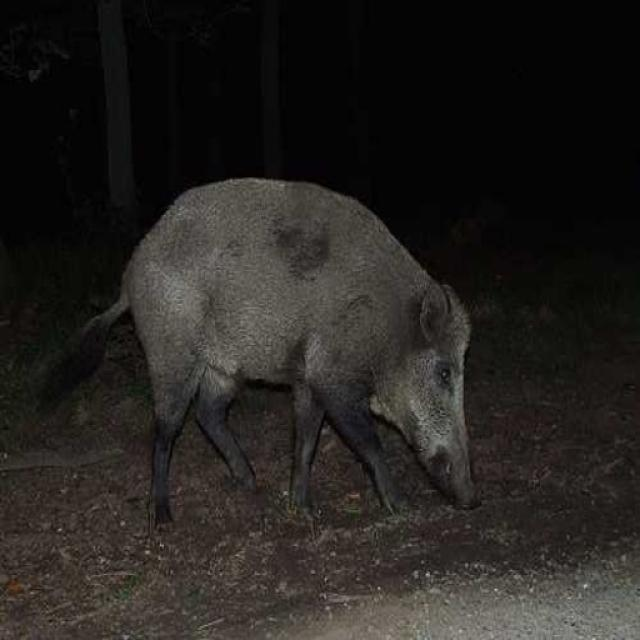pig: (37, 112, 489, 544)
